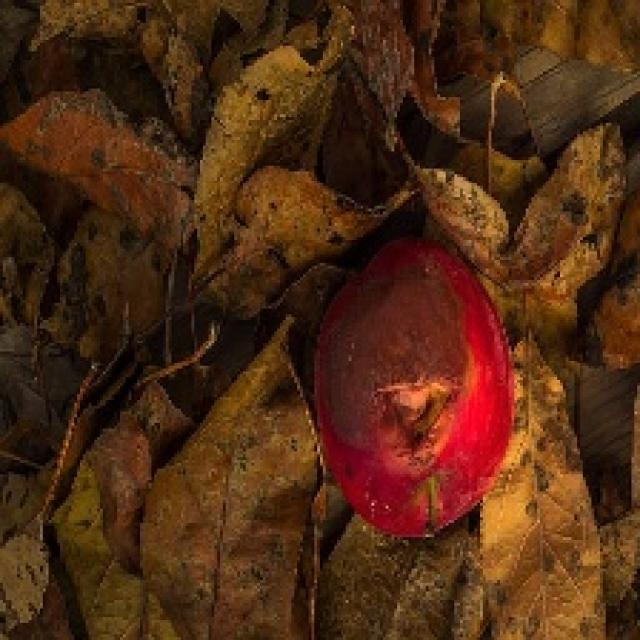rotten_apple: (319, 247, 515, 532)
